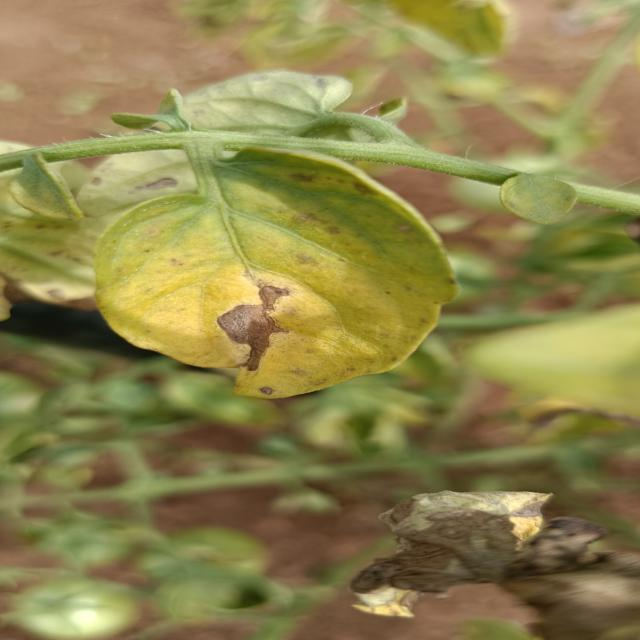tomato_early blight: (91, 146, 446, 398)
